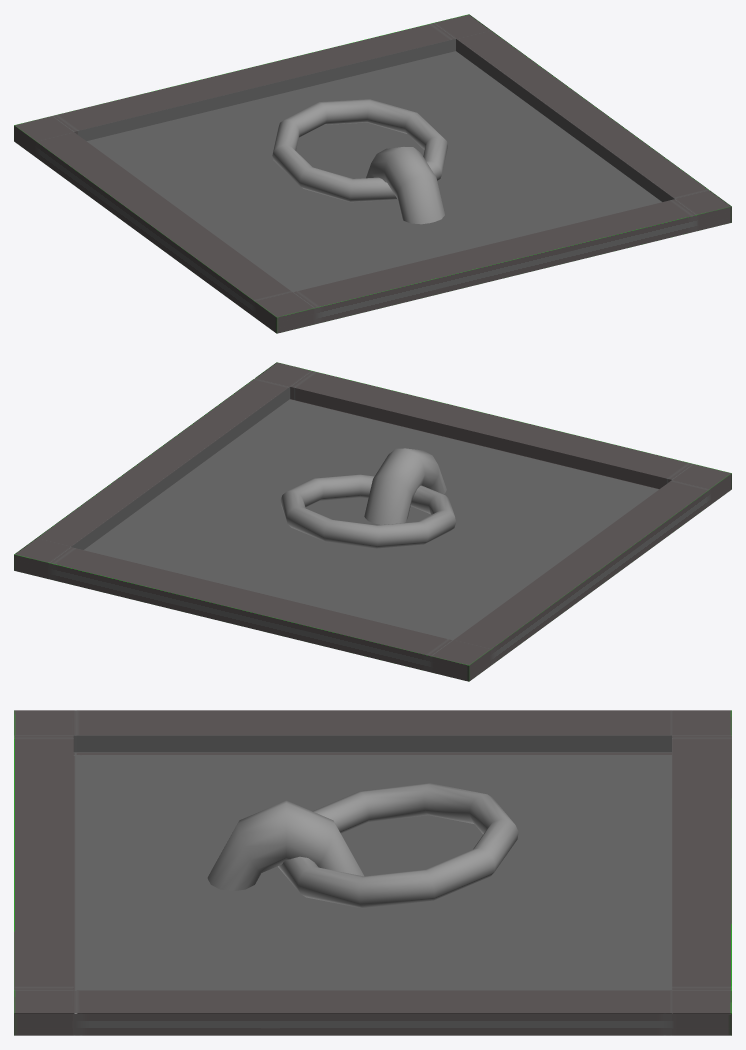
File: End door.FBX
The picture shows the model from 3 angles, top to bottom: view 1: azimuth 30°, elevation 25°; view 2: azimuth 150°, elevation 25°; view 3: azimuth 270°, elevation 25°; orthographic projection. The views are drawn at different scales.
Visible parts, largest first — view 1: bottom, bop, flop; view 2: bottom, bop, flop; view 3: bottom, bop, flop.
Part boxes in pixels (x1=…): bottom: x1=14, y1=14, x2=731, y2=333; bop: x1=272, y1=99, x2=447, y2=202; flop: x1=366, y1=147, x2=444, y2=224; bottom: x1=14, y1=362, x2=731, y2=681; bop: x1=280, y1=474, x2=456, y2=548; flop: x1=364, y1=448, x2=446, y2=524; bottom: x1=14, y1=710, x2=731, y2=1035; bop: x1=278, y1=783, x2=518, y2=908; flop: x1=207, y1=800, x2=364, y2=891.
Bounding box in the file's own units: 20 × 2.83 × 20.
2 materials, 1 textured.
